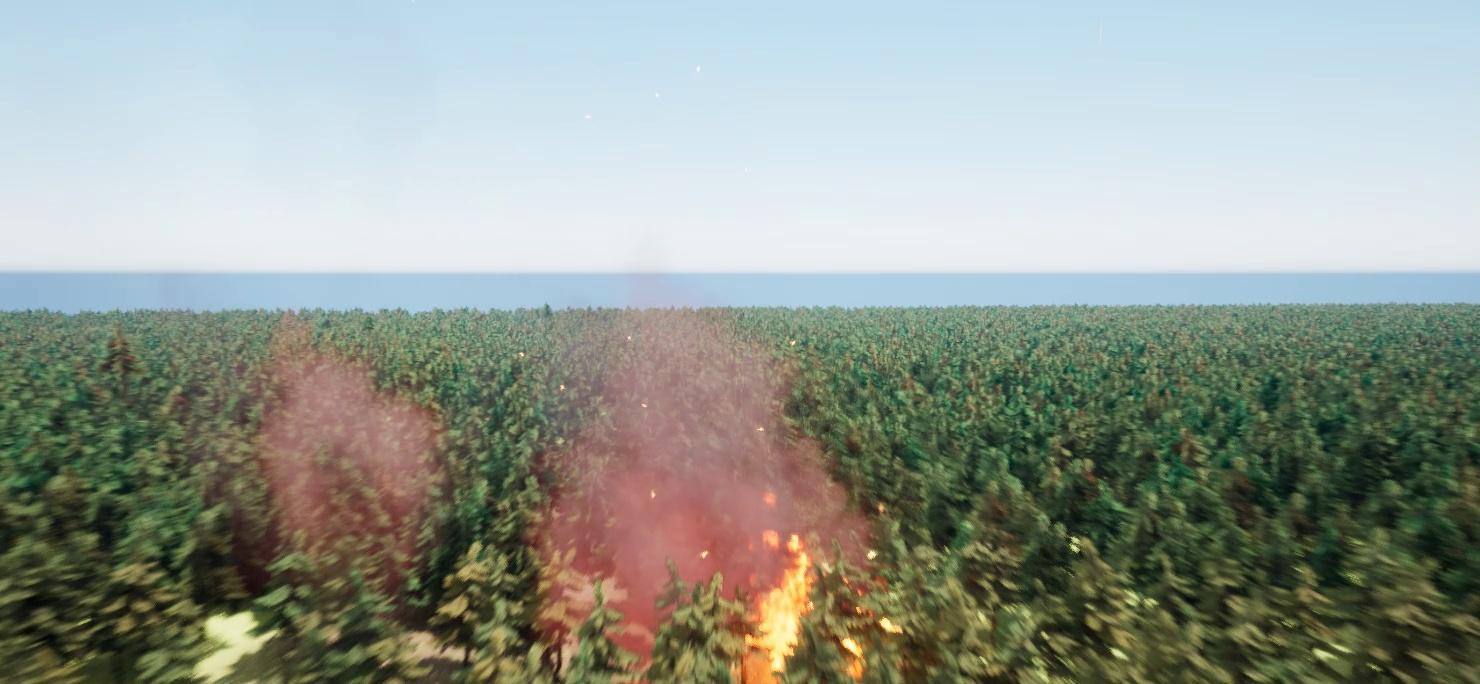fire: (737, 527, 875, 683)
smoke: (530, 288, 887, 654), (201, 303, 453, 598)
